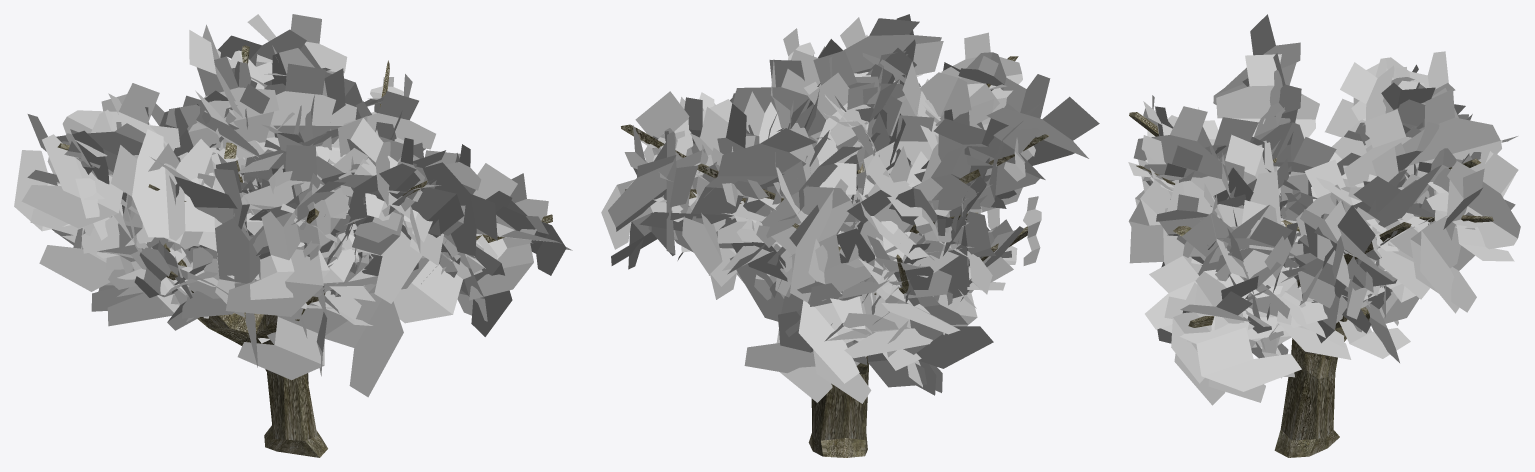
File: Arbol_08.fbx
The picture shows the model from 3 angles, left to right: view 1: azimuth 30°, elevation 25°; view 2: azimuth 150°, elevation 25°; view 3: azimuth 270°, elevation 25°; orthographic projection. The views are drawn at different scales.
Visible parts, largest first — view 1: Tree_Cañada01.005; view 2: Tree_Cañada01.005; view 3: Tree_Cañada01.005.
Part boxes in pixels (<box>): Tree_Cañada01.005: <box>14,14,572,457</box>; Tree_Cañada01.005: <box>601,14,1099,457</box>; Tree_Cañada01.005: <box>1128,14,1520,457</box>.
Bounding box in the file's own units: 30.12 × 24.06 × 24.79.
